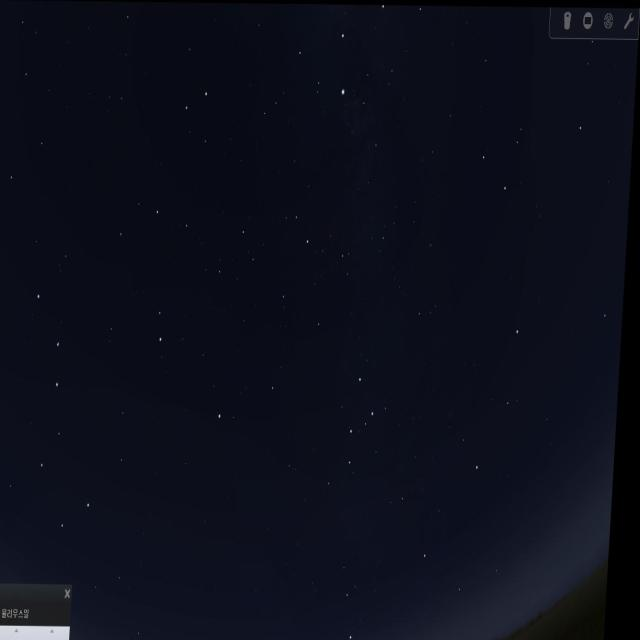cassiopeia: (320, 339, 392, 486)
ursa_major: (19, 265, 112, 534)
